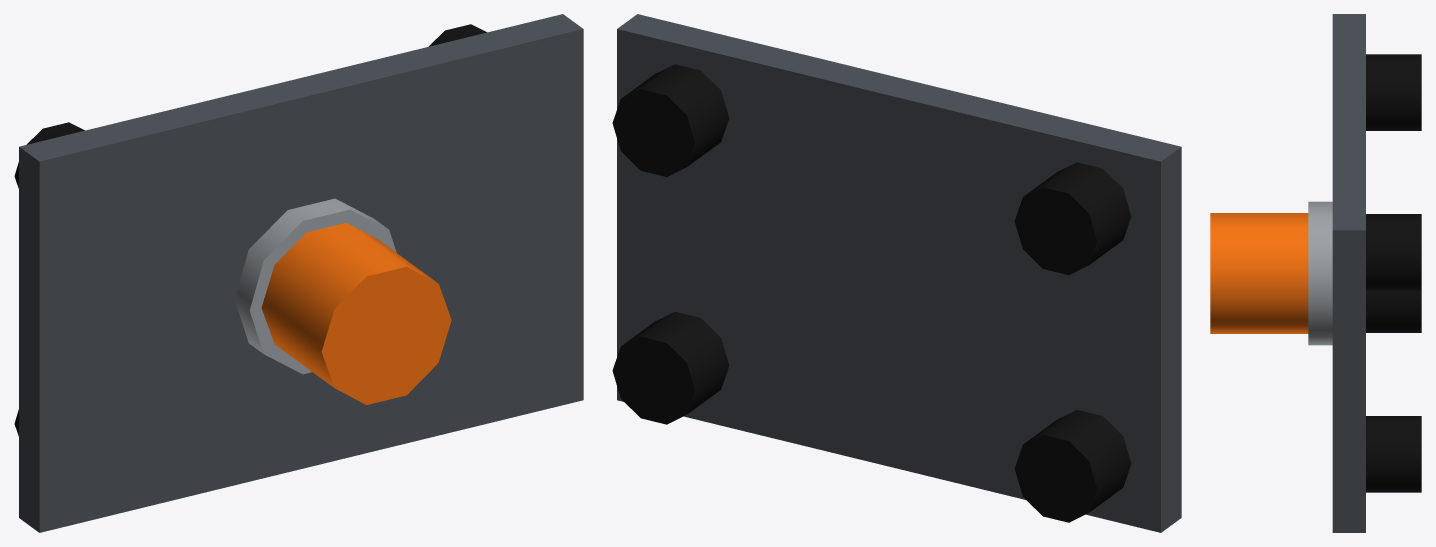
File: arm_tool.obj
The picture shows the model from 3 angles, left to right: view 1: azimuth 30°, elevation 25°; view 2: azimuth 150°, elevation 25°; view 3: azimuth 270°, elevation 25°; orthographic projection. The views are drawn at different scales.
Parts seen in each view (by area): view 1: machine_dark, robot_orange, steel_light, black; view 2: machine_dark, black; view 3: machine_dark, black, robot_orange, steel_light.
Boxes of the visible parts, box(x1,y1,x2,y2) form: machine_dark: box(19, 14, 583, 532); robot_orange: box(261, 222, 451, 404); steel_light: box(234, 198, 396, 374); black: box(14, 24, 486, 436); machine_dark: box(617, 14, 1181, 532); black: box(612, 64, 1131, 522); machine_dark: box(1332, 14, 1365, 532); black: box(1366, 54, 1421, 492); robot_orange: box(1210, 213, 1308, 333); steel_light: box(1308, 201, 1332, 345).
Size of the model in its own units: 0.46 by 0.3 by 0.19.
